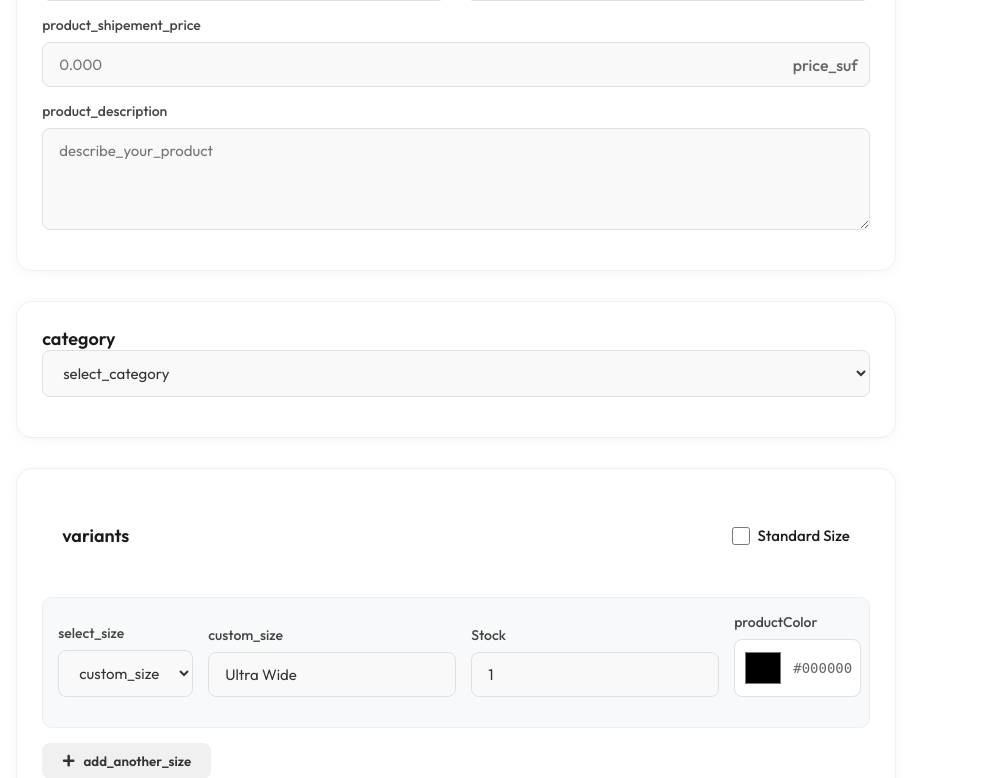
Test: AddProduct Component › switches size select to text input when "home" category is selected
The image size is (991, 778).
(page scrolled)
# Index 3 ist "home"
Select "main-categories.home" in the dropdown named "category" below "category": coordinates (456, 374) [42,350,870,397]
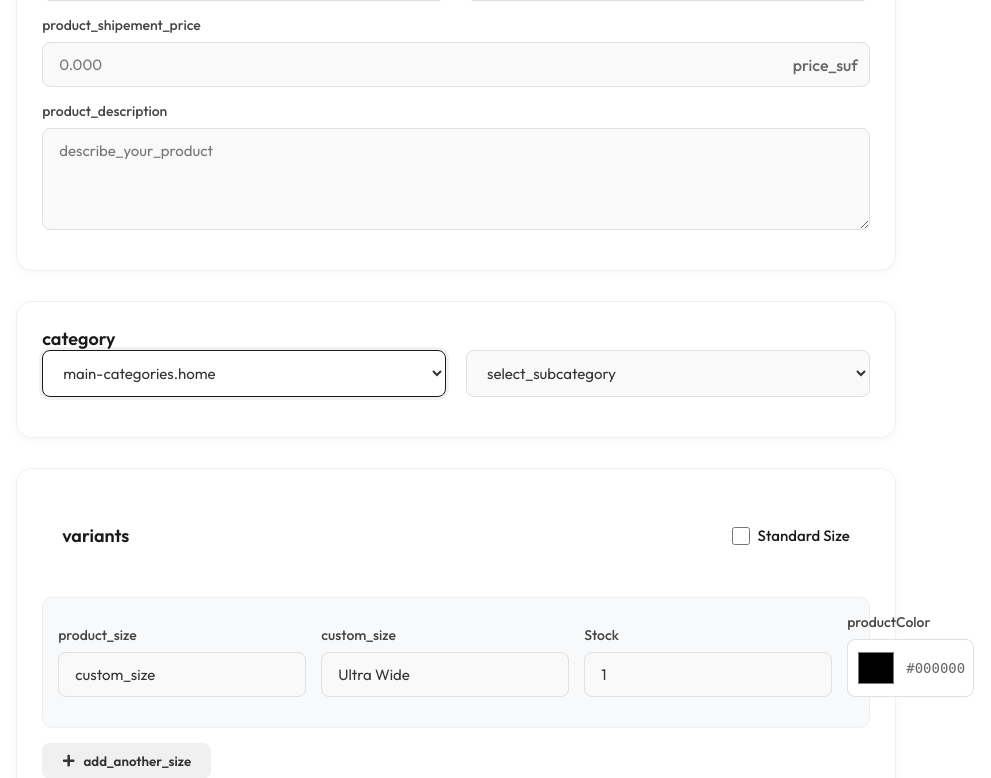
Expected: the field with placeholder "exp_100_watt_30_cm" below "product_size" is shown, [58,652,306,697]
